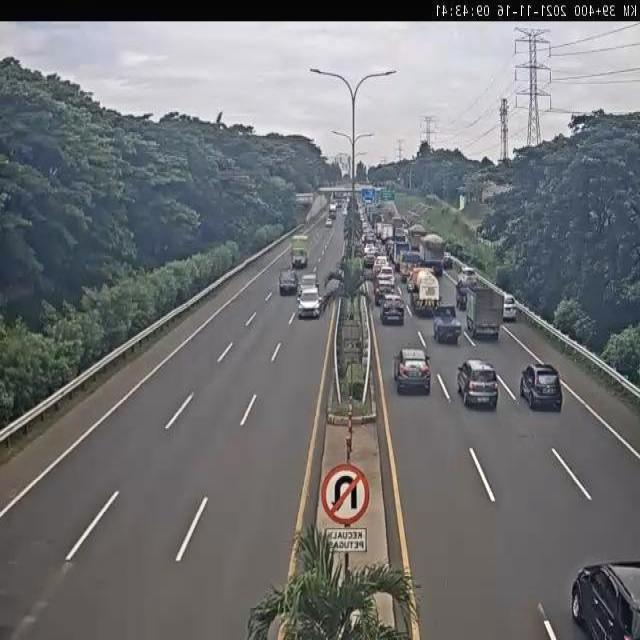Car: (570, 559, 640, 640), (520, 359, 564, 412), (456, 358, 499, 409), (394, 346, 432, 395), (432, 306, 462, 344), (380, 293, 405, 325), (297, 286, 321, 319), (374, 276, 396, 307), (398, 255, 418, 283), (278, 269, 298, 295), (457, 267, 479, 290), (299, 273, 318, 298), (502, 294, 518, 322), (456, 281, 468, 310), (291, 250, 308, 268), (363, 262, 376, 282), (363, 250, 375, 268), (443, 252, 453, 269), (329, 203, 337, 215), (335, 202, 343, 212), (326, 218, 332, 227)
Truck: (466, 285, 504, 339), (407, 266, 440, 313), (419, 232, 445, 276)
